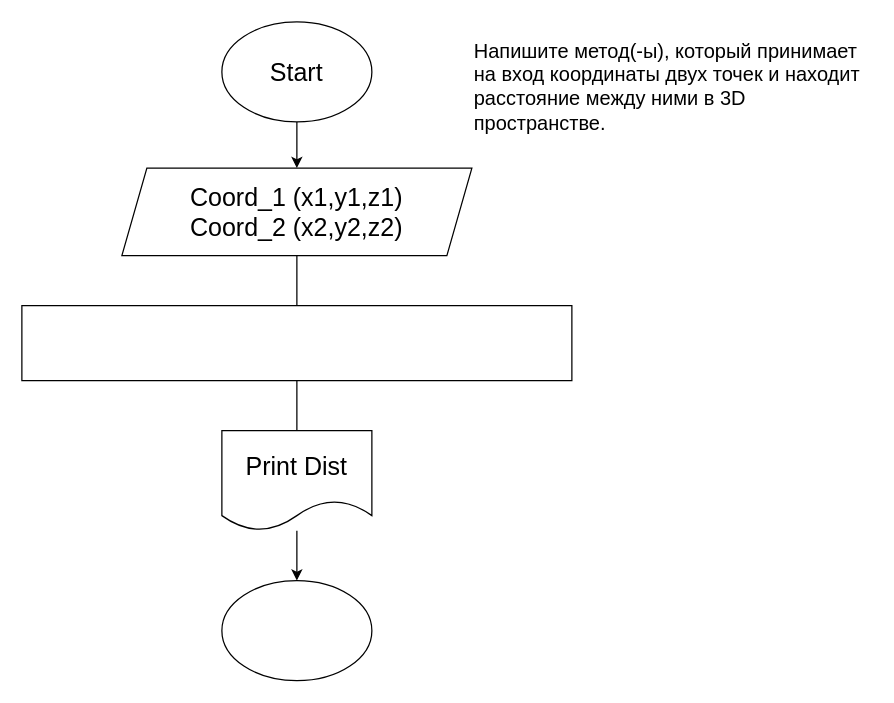
This 894x703 diagram has some shape labels left out. The box of each missing label's shape, as (x1, y1, x2, y2) in pixels:
Dist=Sqrt(Pow(x2-x1)+Pow(y2-y1)+Pow(z2-z1)): (21, 304, 572, 381)
End: (221, 579, 372, 681)
